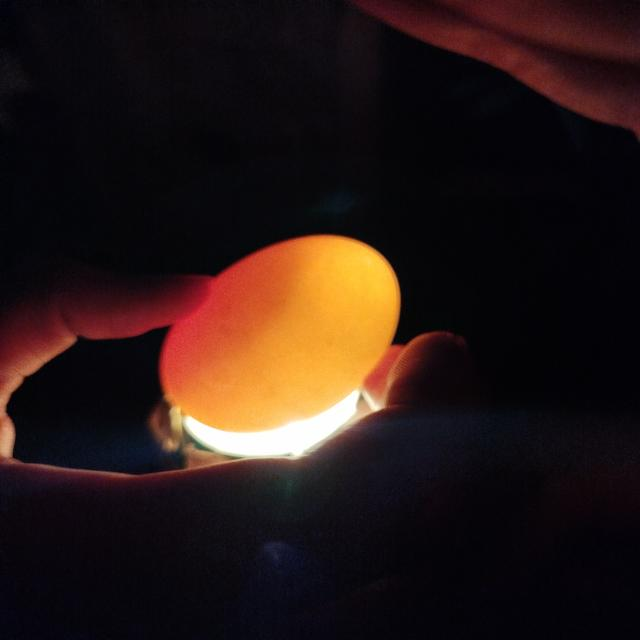Gema Quebrada: (162, 236, 315, 401)
